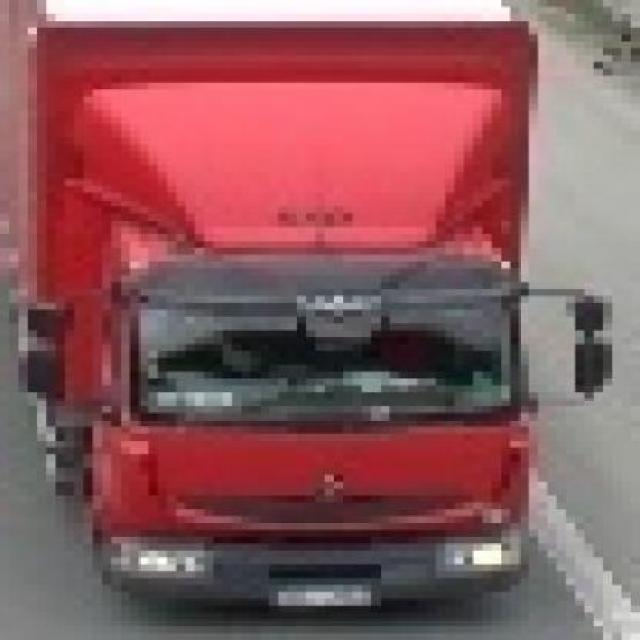truck: (1, 1, 604, 621)
